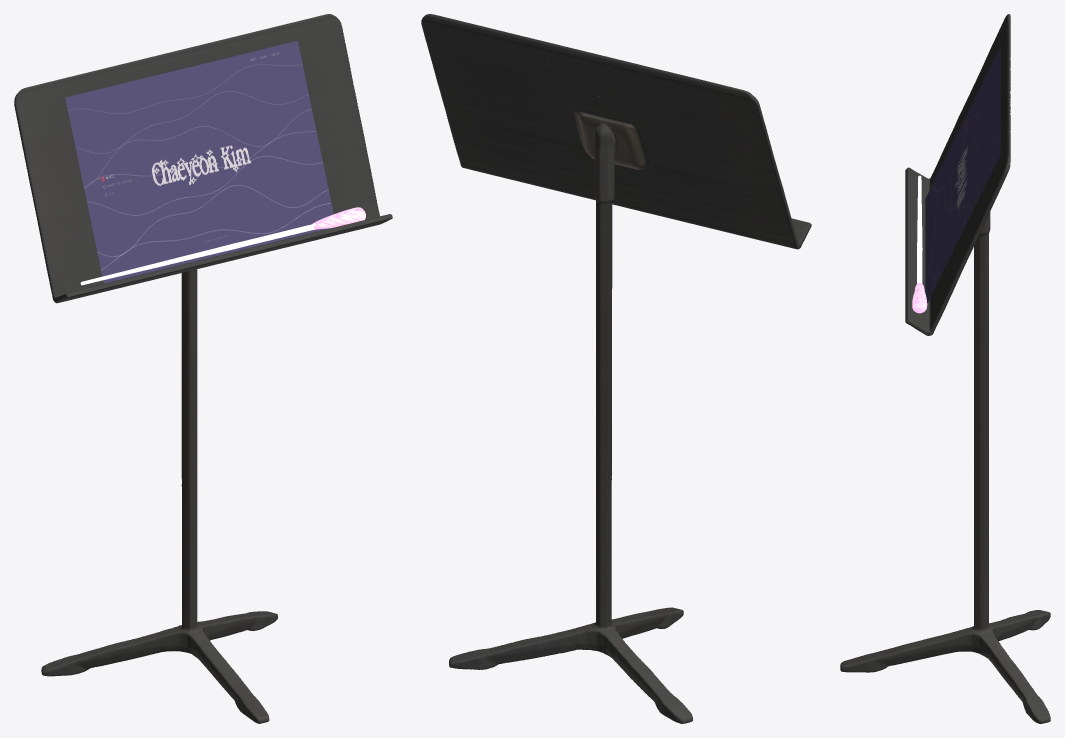
File: Portfolio.glb
The picture shows the model from 3 angles, left to right: view 1: azimuth 30°, elevation 25°; view 2: azimuth 150°, elevation 25°; view 3: azimuth 270°, elevation 25°; orthographic projection. The views are drawn at different scales.
Parts seen in each view (by area): view 1: Sheet_Music, Stand, Baton; view 2: Stand; view 3: Stand, Sheet_Music, Baton.
Part boxes in pixels (x1,y1,x2,y2): Sheet_Music: [65, 41, 333, 283]; Stand: [14, 14, 392, 723]; Baton: [80, 207, 365, 285]; Stand: [421, 14, 811, 723]; Stand: [840, 14, 1050, 723]; Sheet_Music: [925, 46, 1000, 303]; Baton: [912, 175, 927, 313].
Size of the model in its own units: 1.41 by 2.5 by 0.816.
3 materials, 3 textured.
